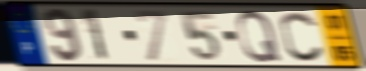1: (80, 7, 111, 64)
5: (177, 9, 224, 62)
7: (133, 8, 172, 63)
9: (42, 6, 85, 64)
C: (278, 9, 326, 64)
Q: (235, 8, 283, 64)
